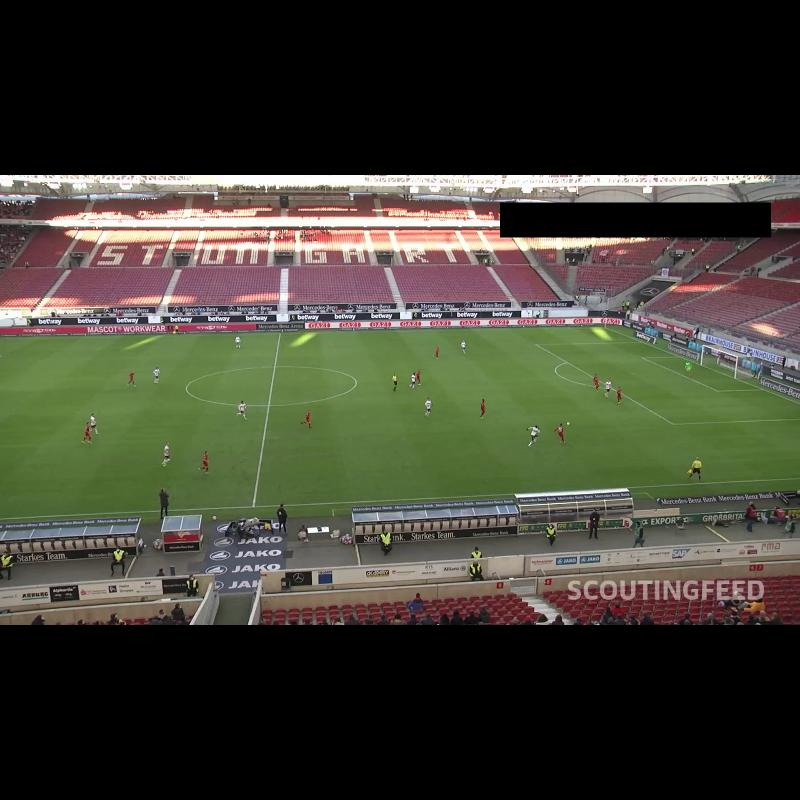cross_recipient_zone: (536, 342, 800, 424)
crossing_player_zone: (576, 418, 800, 487), (455, 328, 640, 346), (0, 337, 98, 355)
pitch: (0, 327, 800, 519)
